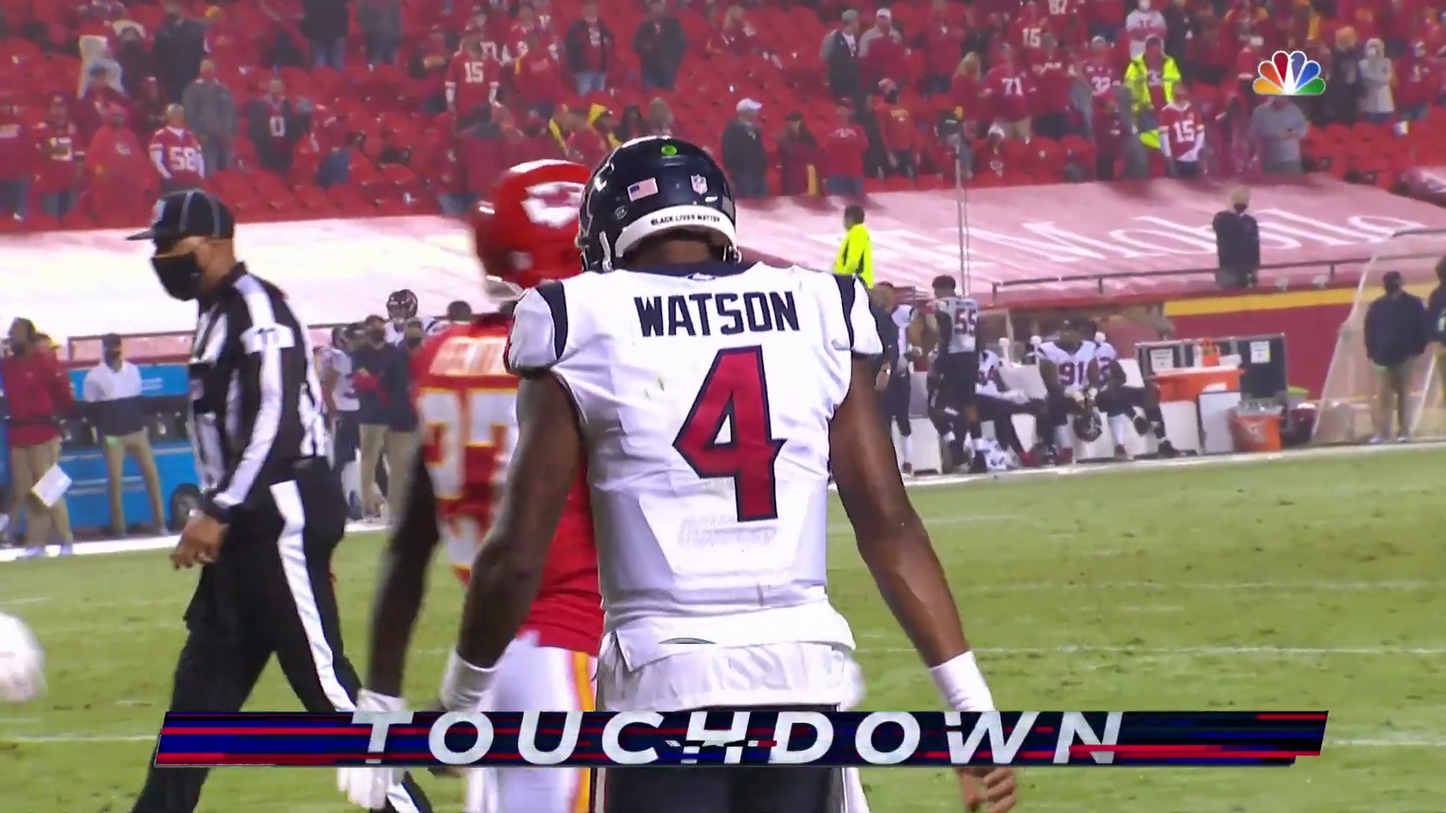Player: (454, 130, 936, 666)
